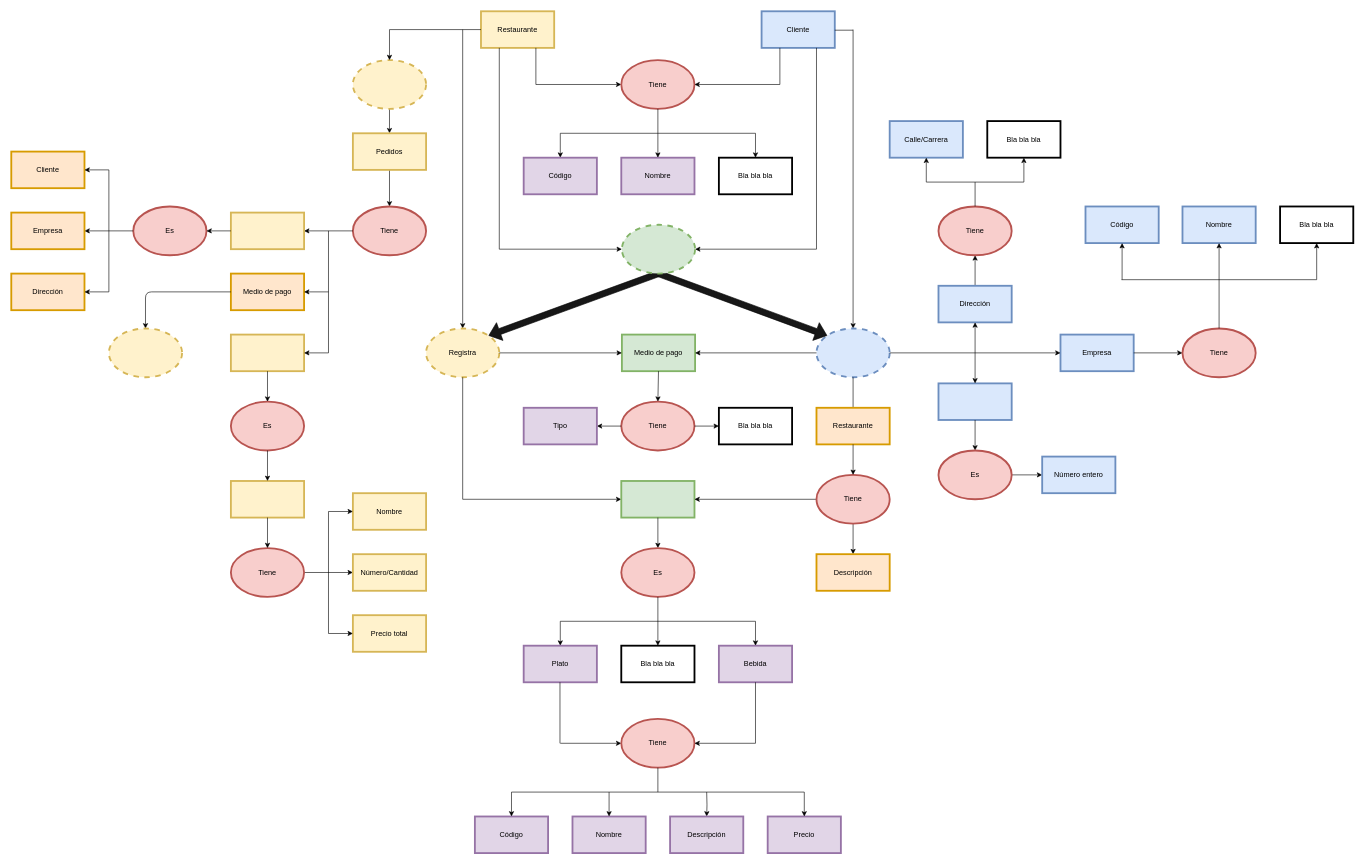
Image size: 1365x864. Some labels were removed from this diagram. Here are the shapes that lost their labels. From the top down, the centre of each, then its label:
At pixel 389 84: "Detecta".
At pixel 267 230: "Procedencia".
At pixel 658 249: "Inicia Sesión".
At pixel 145 352: "Validar".
At pixel 267 352: "Variedad".
At pixel 852 352: "Selecciona/Introduce".
At pixel 974 401: "Número de pedidos".
At pixel 267 499: "Tipo de comidas/bebidas".
At pixel 657 499: "Menú".
